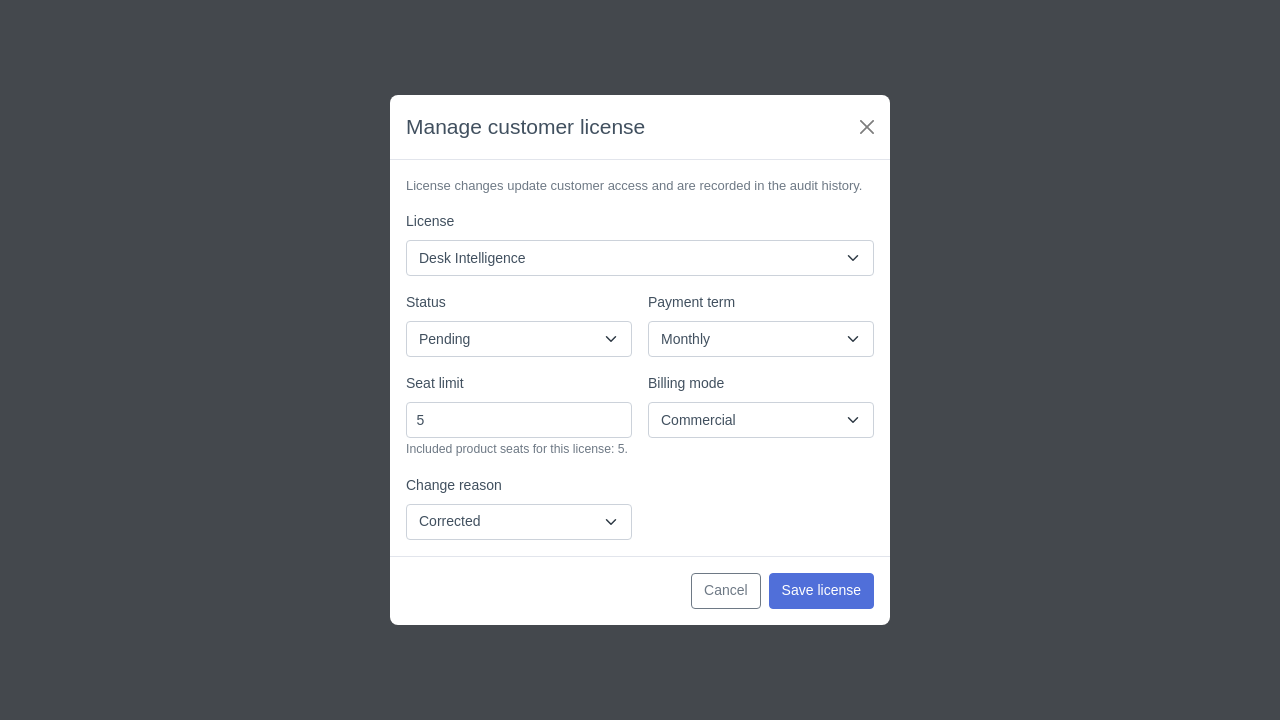
SubscriptionModal › allows non-commercial accounts to use one operational seat
This screenshot has width=1280, height=720.
Select "Complimentary" in the dropdown labelled "Billing mode" at (761, 420), box [648,402,874,438]
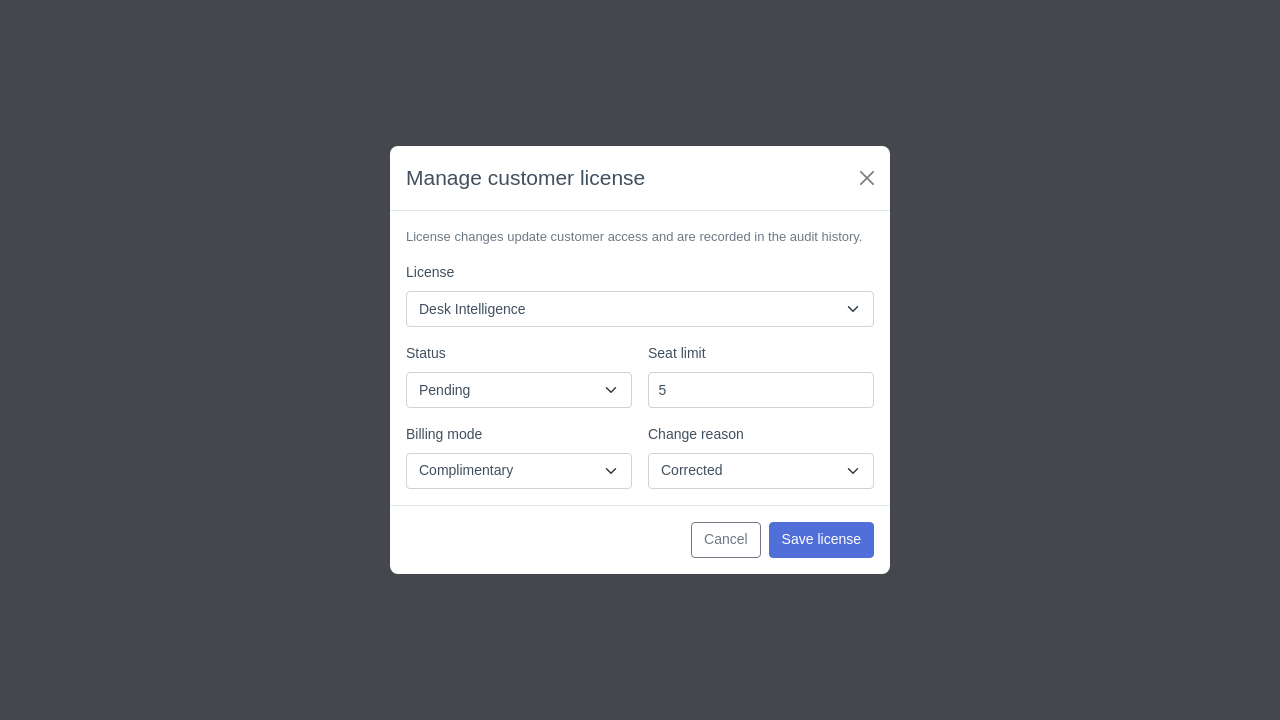
Expected: the label labelled "Payment term" is gone
